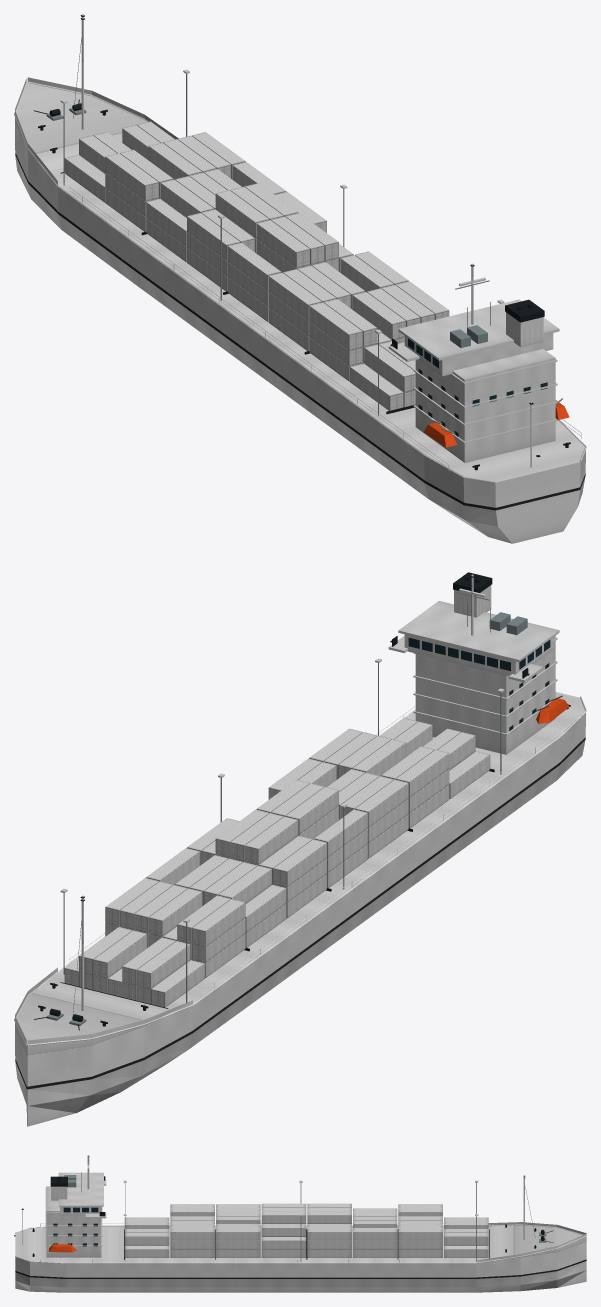
File: cargo_ship.glb
3 views of the same model, one above another, from view 1: azimuth 30°, elevation 25°; view 2: azimuth 150°, elevation 25°; view 3: azimuth 270°, elevation 25° (orthographic). The views are drawn at different scales.
Parts seen in each view (by area): view 1: Superstructure, Deck, Hull, ContainerC, ContainerA, ContainerB, Antifouling, ContainerD, BootStripe, Steel, DarkSteel, Glass; view 2: Superstructure, Hull, ContainerA, ContainerB, ContainerC, Deck, Antifouling, ContainerD, BootStripe, Steel, Glass, DarkSteel; view 3: Hull, Antifouling, Superstructure, ContainerA, Deck, ContainerC, ContainerB, ContainerD, BootStripe, DarkSteel, Steel, Glass (+1 smaller).
Boxes of the visible parts, bbox=[...] form: Superstructure: bbox=[14, 14, 586, 482]; Deck: bbox=[16, 83, 584, 482]; Hull: bbox=[15, 77, 585, 507]; ContainerC: bbox=[105, 121, 408, 410]; ContainerA: bbox=[120, 125, 434, 350]; ContainerB: bbox=[64, 132, 449, 407]; Antifouling: bbox=[15, 155, 585, 543]; ContainerD: bbox=[79, 154, 326, 320]; BootStripe: bbox=[15, 153, 585, 510]; Steel: bbox=[46, 38, 562, 434]; DarkSteel: bbox=[34, 15, 570, 470]; Glass: bbox=[408, 338, 547, 436]; Superstructure: bbox=[14, 574, 586, 1045]; Hull: bbox=[15, 712, 585, 1086]; ContainerA: bbox=[64, 732, 449, 1000]; ContainerB: bbox=[79, 721, 475, 1007]; ContainerC: bbox=[79, 739, 490, 977]; Deck: bbox=[16, 692, 584, 1045]; Antifouling: bbox=[15, 740, 585, 1126]; ContainerD: bbox=[105, 718, 418, 1003]; BootStripe: bbox=[15, 737, 585, 1089]; Steel: bbox=[46, 591, 562, 1026]; Glass: bbox=[408, 638, 550, 731]; DarkSteel: bbox=[34, 572, 570, 1030]; Hull: bbox=[15, 1222, 586, 1277]; Antifouling: bbox=[15, 1261, 586, 1292]; Superstructure: bbox=[15, 1155, 586, 1263]; ContainerA: bbox=[170, 1204, 488, 1257]; Deck: bbox=[15, 1225, 581, 1263]; ContainerC: bbox=[124, 1211, 488, 1257]; ContainerB: bbox=[124, 1203, 488, 1257]; ContainerD: bbox=[124, 1203, 442, 1257]; BootStripe: bbox=[15, 1259, 586, 1278]; DarkSteel: bbox=[14, 1156, 553, 1259]; Steel: bbox=[55, 1169, 546, 1261]; Glass: bbox=[53, 1207, 98, 1246].
Size of the model in its own units: 24.3 by 38 by 156.
Materials: 13 (8 with a texture image).
